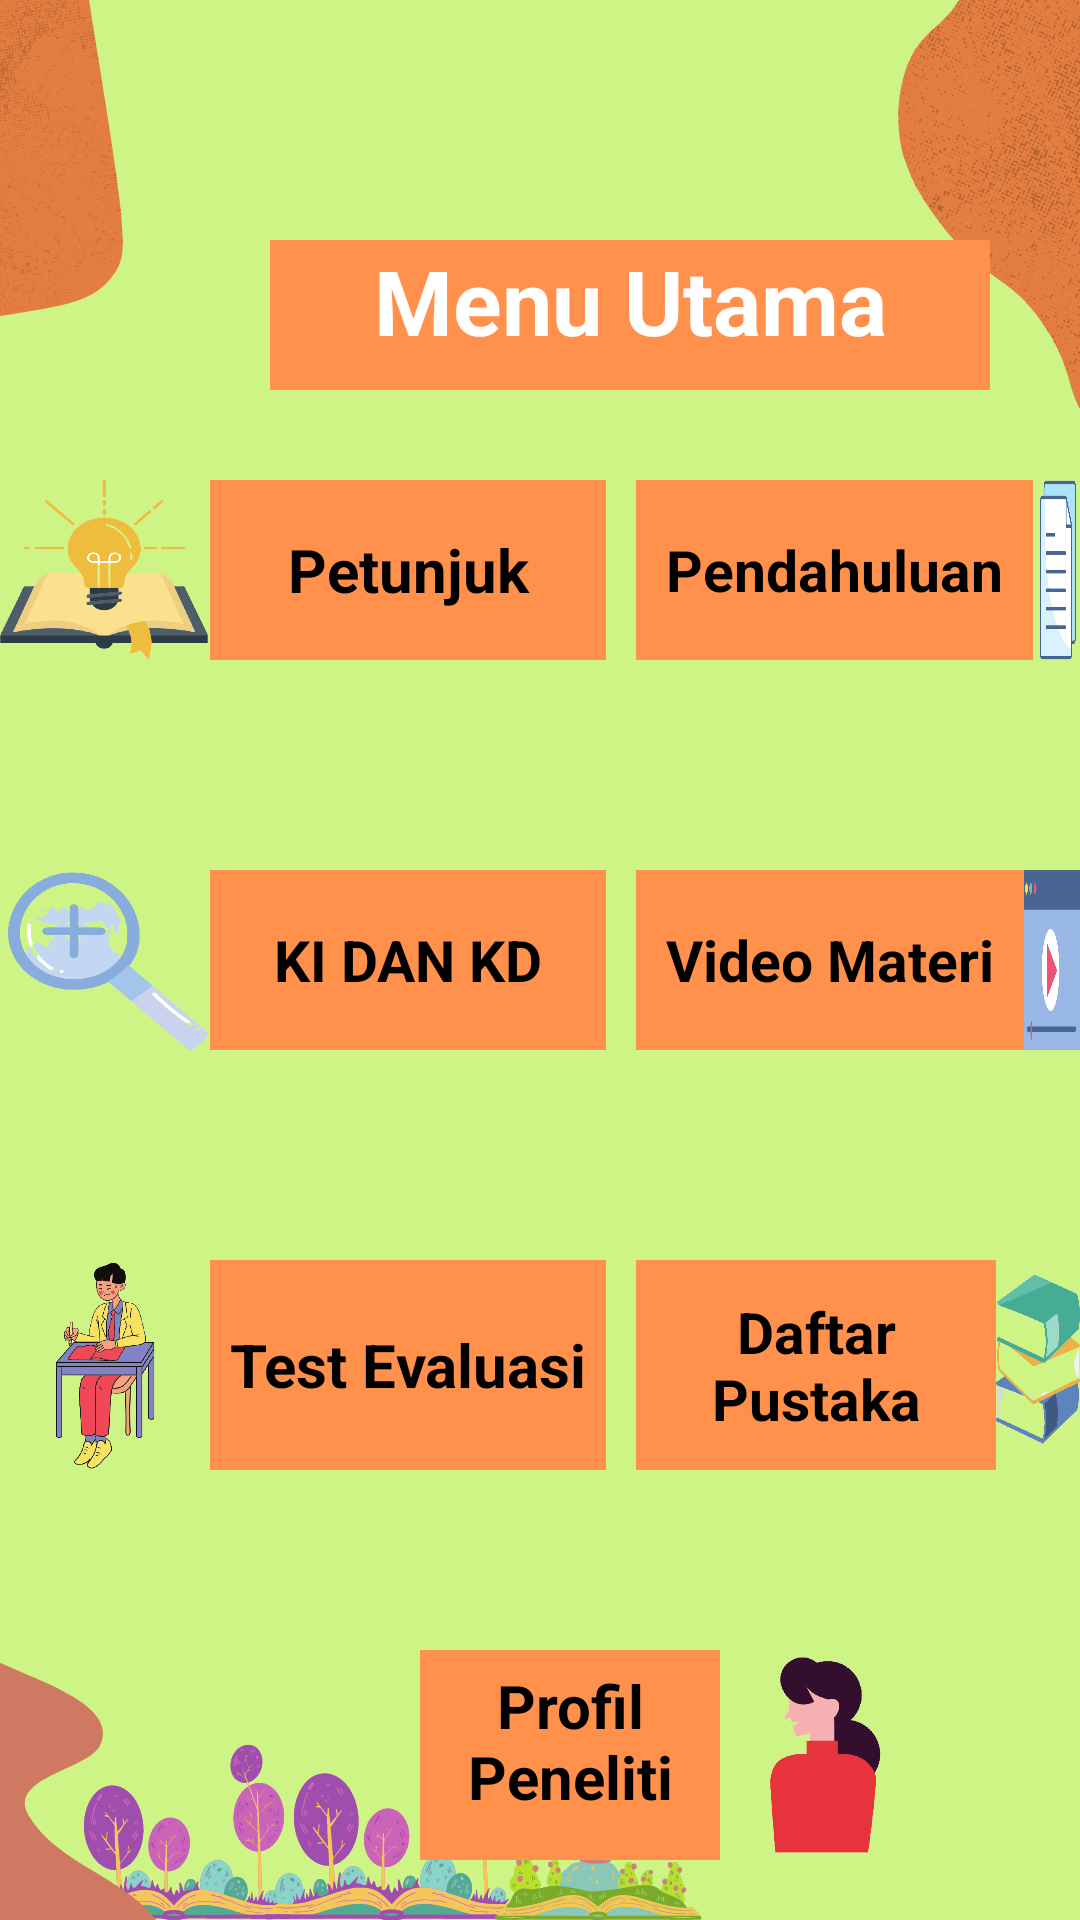

Icons on this 1080px×1920px Android screen, each with the point to tap as (x=x, y=y):
buku: (x=1038, y=1359)
kertas: (x=1058, y=570)
lampu: (x=104, y=569)
zoom: (x=108, y=961)
